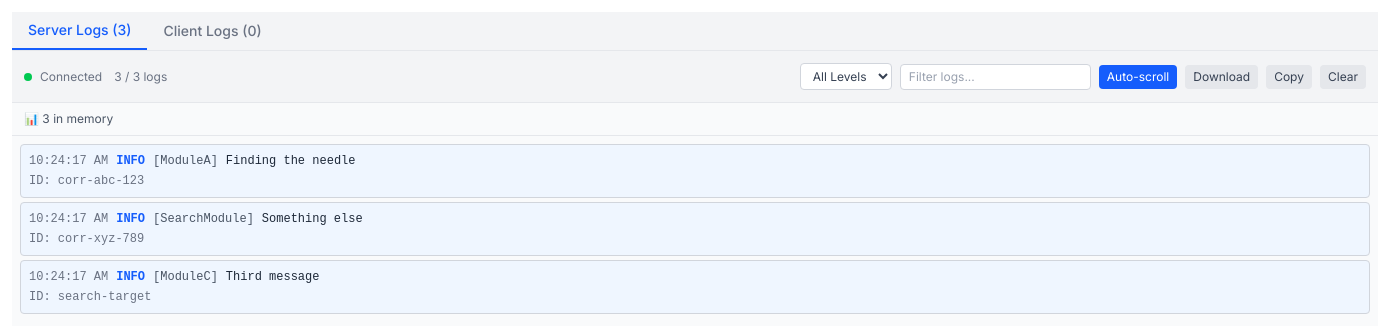
Scenario: LogViewer Regression Tests › Filtering › text search filters by message, module, correlationId
Check: the text "Finding the needle" is shown, box [226,154,356,168]
Check: the text "Something else" is shown, box [262,212,363,226]
# Search by message
In the field with placeholder "Filter logs...": {"x": 995, "y": 76} [900,64,1091,90], type "needle"
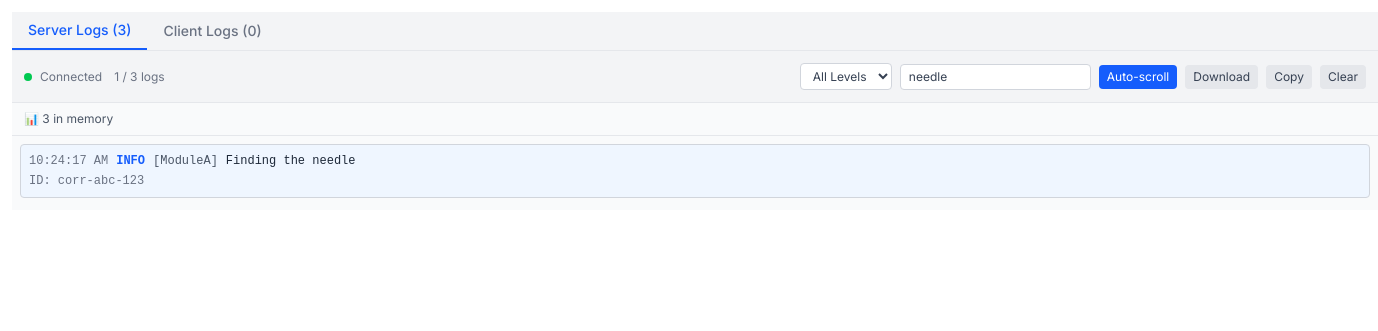
Check: the text "Finding the needle" is shown, box [226,154,356,168]
Check: the text "Something else" is gone
Check: the text "Third message" is gone
# Search by module
Replace the text in the field with placeholder "Filter logs..." with "SearchModule": {"x": 995, "y": 76} [900,64,1091,90]
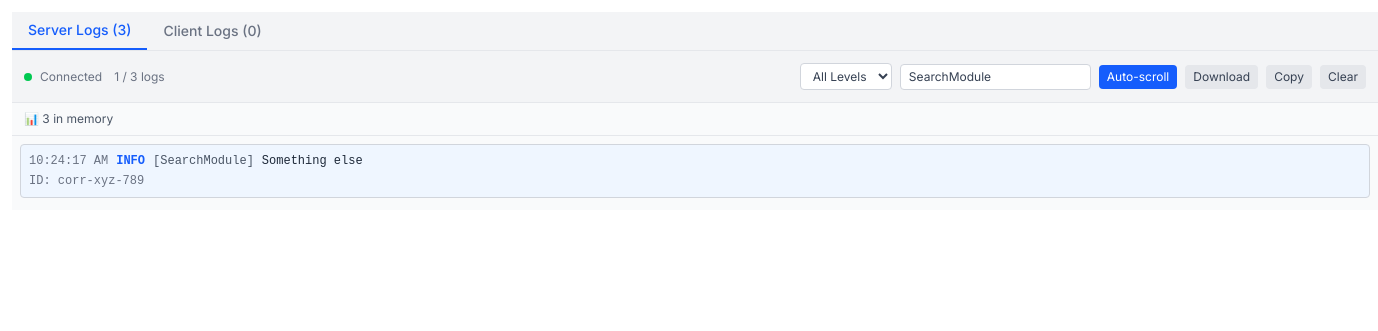
Check: the text "Third message" is not shown
Check: the text "Finding the needle" is gone
Check: the text "Something else" is shown, box [262,154,363,168]
# Search by correlationId
Replace the text in the field with placeholder "Filter logs..." with "search-target": {"x": 995, "y": 76} [900,64,1091,90]
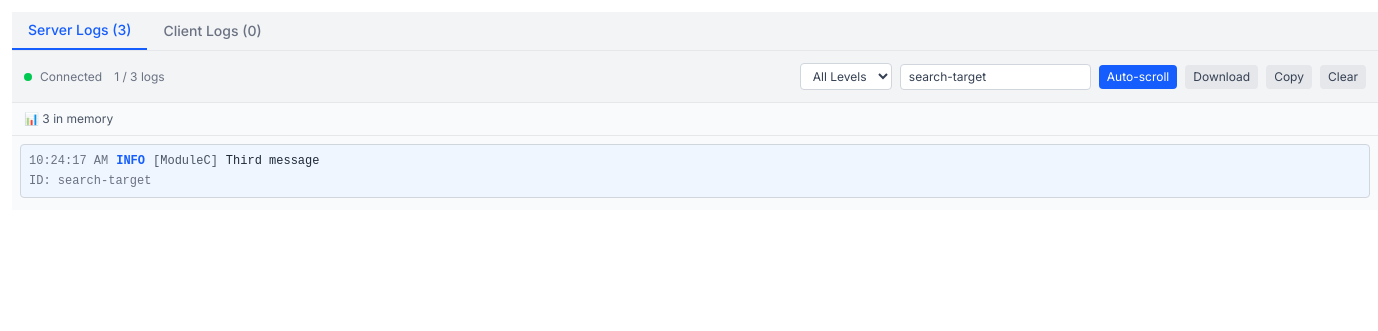
Check: the text "Finding the needle" is not shown
Check: the text "Something else" is gone
Check: the text "Third message" is shown, box [226,154,320,168]
